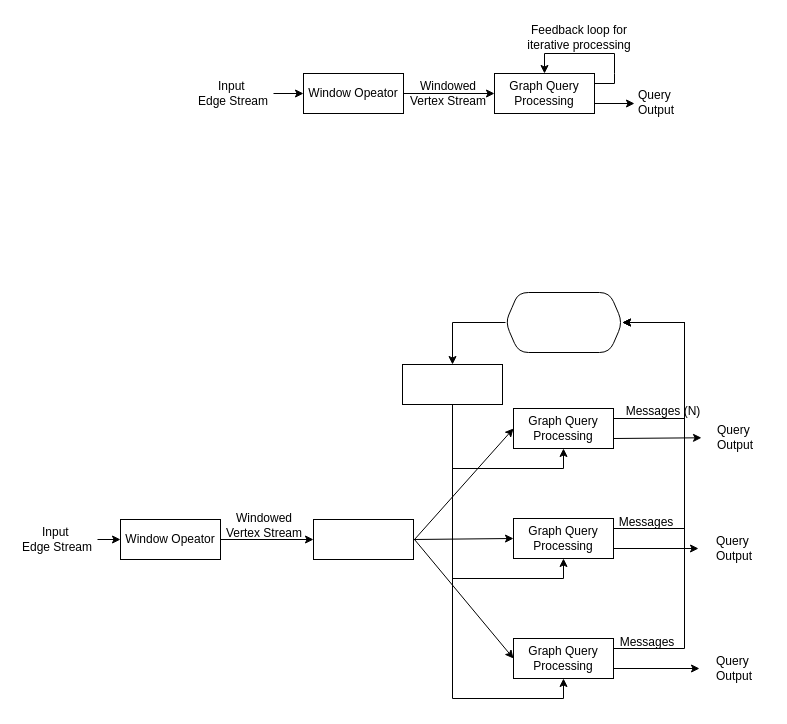
Image size: 787x724. Some labels were removed from this diagram. The box of each missing label's shape, as (x1, y1, x2, y2) in pixels:
Externel Messaging System: (504, 292, 622, 352)
Message Distributor: (402, 364, 502, 404)
Vertex Partitioning: (312, 518, 414, 560)
